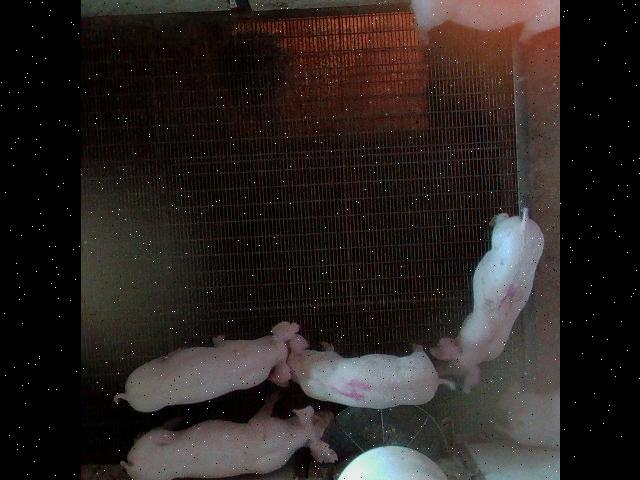pig-1: (429, 209, 542, 394)
pig-3: (411, 0, 559, 39)
pig-4: (268, 334, 453, 409)
